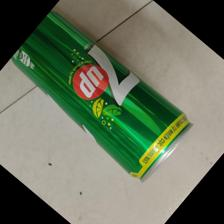7up: (7, 3, 194, 184)
